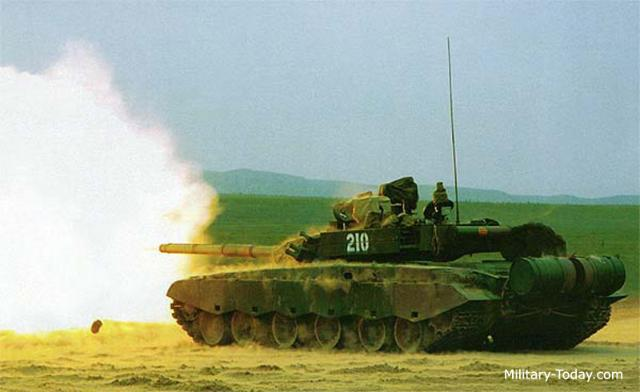tank: (152, 175, 618, 349)
